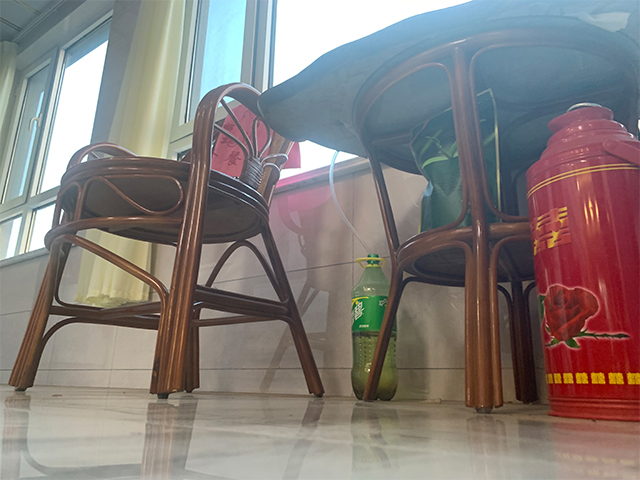stool: (8, 81, 327, 400)
table: (255, 1, 640, 414)
